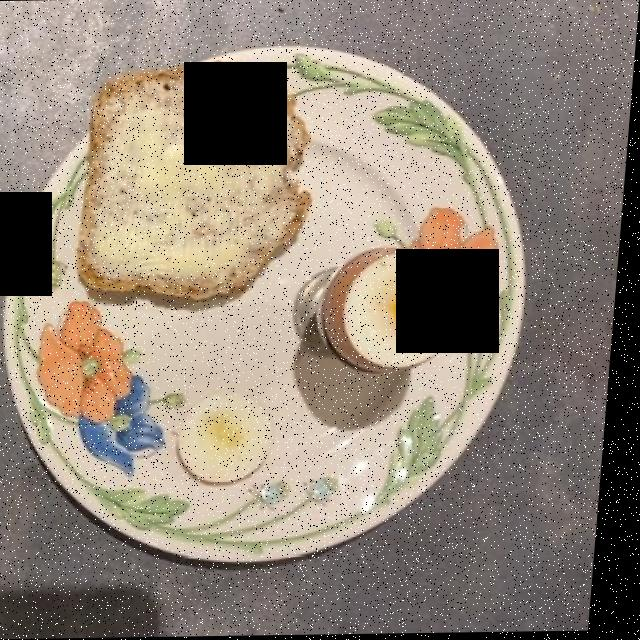bread-wholemeal: (74, 54, 321, 310)
butter: (88, 60, 311, 302)
egg: (319, 235, 476, 377)
